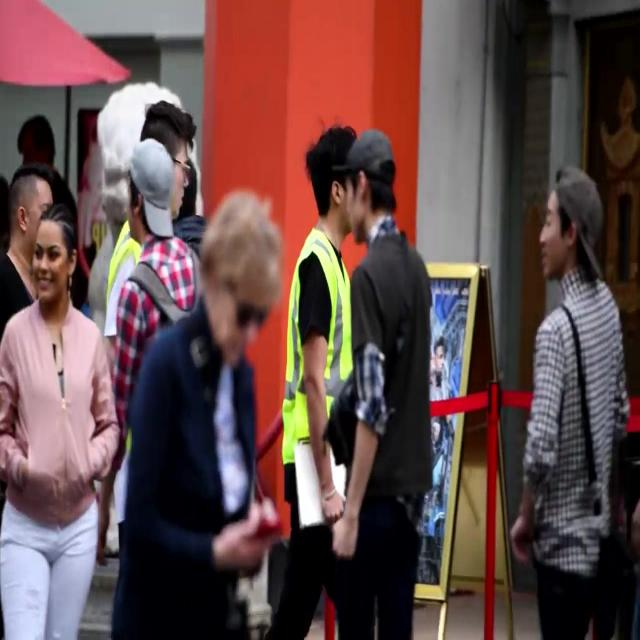Reflective-Jacket: (279, 222, 365, 478), (105, 211, 139, 340)
